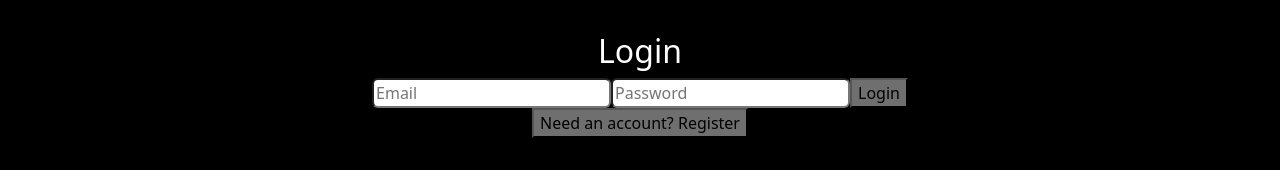
Scenario: Auth Component › Login Mode › switches to register form
Click the button with test id "toggle-auth-mode-button" at point(640, 123), box [532, 108, 748, 138]
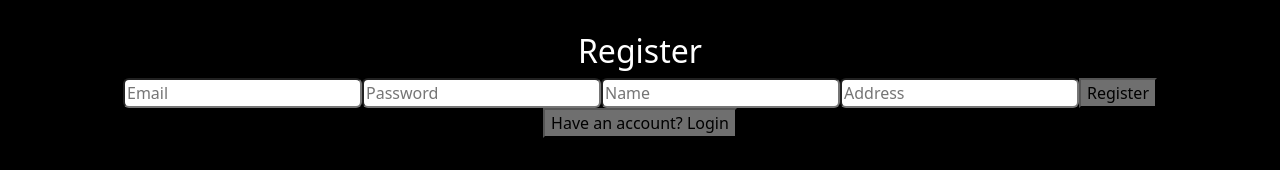
Expected: the heading with test id "auth-title" reads "Register", [578, 29, 702, 72]
Expected: the field with test id "name-input" is shown, [601, 78, 840, 108]
Expected: the field with test id "address-input" is shown, [840, 78, 1079, 108]
